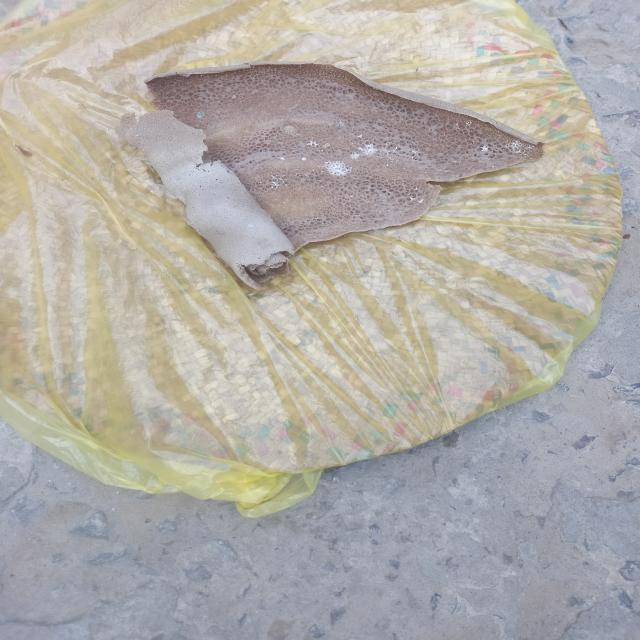injera_mold: (322, 159, 352, 179), (354, 141, 380, 157), (507, 139, 530, 155), (268, 172, 283, 190), (384, 142, 392, 168), (478, 144, 494, 156), (306, 140, 320, 149), (230, 94, 243, 101), (466, 119, 475, 129), (336, 120, 346, 128), (411, 148, 417, 158), (392, 145, 398, 155), (454, 122, 460, 131), (356, 132, 365, 138), (197, 112, 206, 118), (350, 153, 357, 160), (300, 156, 308, 162), (409, 196, 416, 202), (125, 131, 130, 139), (248, 222, 254, 228), (134, 133, 140, 139), (280, 156, 286, 161), (415, 186, 420, 192), (418, 198, 423, 203), (296, 172, 301, 177), (248, 223, 254, 227), (294, 168, 300, 172), (484, 126, 490, 130), (288, 173, 294, 177), (136, 141, 146, 143), (284, 222, 289, 226), (492, 128, 497, 132), (318, 198, 322, 203), (255, 154, 260, 158), (404, 139, 408, 144), (411, 141, 417, 144), (468, 166, 474, 169), (490, 165, 496, 168), (156, 155, 160, 159), (259, 181, 263, 185), (303, 174, 307, 178), (529, 156, 533, 160), (395, 159, 398, 164), (286, 150, 291, 153), (309, 149, 314, 152), (460, 115, 465, 118), (351, 141, 354, 146), (354, 213, 359, 216), (142, 148, 145, 152), (318, 164, 320, 170), (452, 160, 458, 162), (424, 171, 428, 174), (282, 200, 286, 203), (312, 169, 316, 172), (320, 185, 324, 188), (294, 138, 298, 141), (280, 129, 284, 132), (401, 150, 407, 152), (407, 148, 410, 152), (329, 122, 332, 126), (313, 235, 317, 238), (350, 195, 354, 198), (402, 167, 406, 170), (329, 93, 333, 96), (308, 188, 313, 190), (165, 165, 168, 168), (363, 172, 366, 175), (310, 118, 313, 121), (532, 145, 535, 148), (335, 225, 338, 228), (386, 186, 390, 188), (442, 152, 446, 154), (438, 146, 442, 148), (172, 123, 176, 125), (145, 146, 149, 148), (284, 173, 286, 177), (470, 131, 474, 133), (508, 130, 512, 132), (278, 148, 282, 150), (502, 148, 505, 150), (140, 125, 143, 127), (143, 127, 146, 129), (182, 154, 185, 156), (240, 178, 243, 180), (238, 166, 241, 168), (439, 144, 442, 146), (439, 168, 442, 170), (448, 130, 451, 132), (398, 175, 400, 178), (400, 186, 402, 189), (415, 168, 418, 170), (446, 169, 448, 172), (151, 129, 153, 132), (135, 143, 137, 146), (425, 154, 427, 156), (352, 111, 354, 113), (172, 150, 174, 152), (263, 164, 265, 166), (462, 144, 464, 146), (495, 152, 497, 154), (463, 132, 465, 134), (440, 168, 442, 170), (322, 150, 324, 152), (187, 129, 189, 131), (134, 128, 137, 129), (129, 128, 132, 129), (345, 148, 346, 150), (240, 101, 242, 102), (343, 181, 344, 182), (300, 170, 304, 170), (336, 180, 339, 180), (156, 149, 156, 152)
